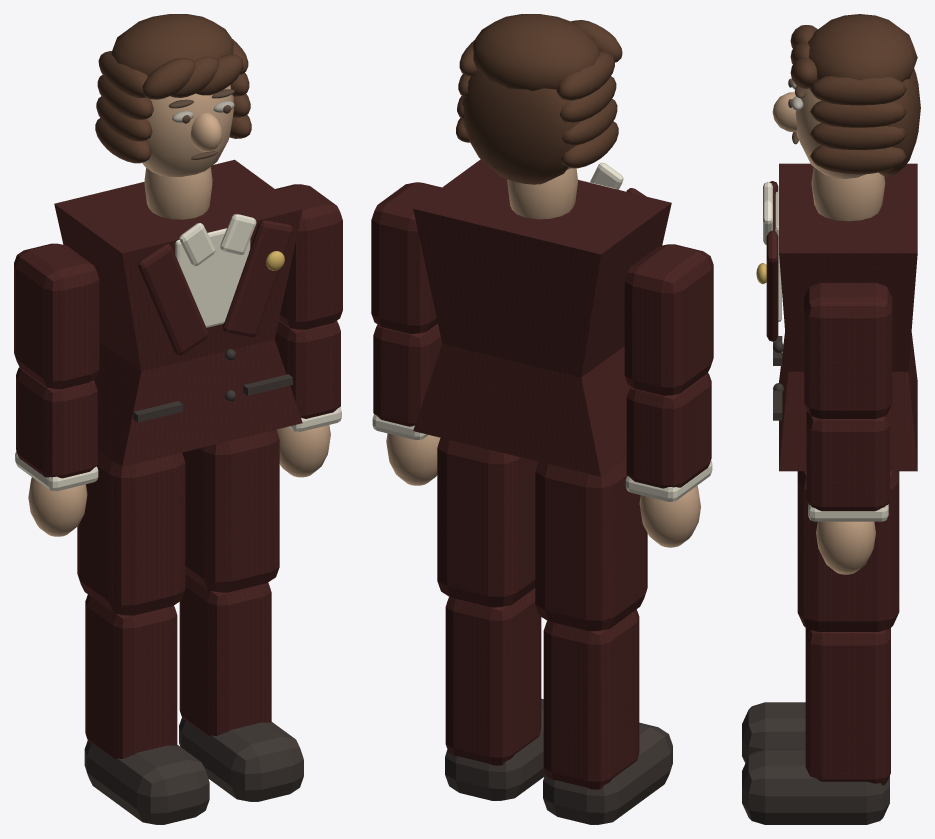
The model's file is woman.glb.
The picture shows the model from 3 angles, left to right: view 1: azimuth 30°, elevation 25°; view 2: azimuth 150°, elevation 25°; view 3: azimuth 270°, elevation 25°; orthographic projection. The views are drawn at different scales.
Parts seen in each view (by area): view 1: jacket, trouser upper, swept hair crown, trouser upper.001, trouser lower, trouser lower.001, jacket upper sleeve, neck, shoe, jacket forearm, shoe.001, jacket upper sleeve.001 (+6 smaller); view 2: jacket, swept hair crown, trouser upper, trouser upper.001, trouser lower, trouser lower.001, jacket upper sleeve, jacket forearm, jacket upper sleeve.001, shoe, jacket forearm.001, shoe.001 (+5 smaller); view 3: jacket, swept hair crown, trouser lower.001, jacket upper sleeve.001, trouser upper.001, shoe.001, jacket forearm.001, neck, shoe, hand.001, shirt cuff.001, shirt front (+1 smaller).
Part boxes in pixels (box(x1,y1,x2,y2)): jacket: box(54, 159, 302, 466); trouser upper: box(77, 449, 185, 615); swept hair crown: box(95, 14, 251, 163); trouser upper.001: box(182, 429, 279, 592); trouser lower: box(85, 594, 177, 758); trouser lower.001: box(179, 574, 271, 735); jacket upper sleeve: box(14, 243, 99, 389); neck: box(142, 85, 233, 219); shoe: box(84, 741, 209, 824); jacket forearm: box(16, 367, 97, 478); shoe.001: box(179, 718, 303, 801); jacket upper sleeve.001: box(275, 184, 342, 329); jacket: box(413, 159, 671, 476); swept hair crown: box(456, 14, 622, 184); trouser upper: box(535, 458, 647, 631); trouser upper.001: box(437, 438, 538, 607); trouser lower: box(543, 609, 639, 789); trouser lower.001: box(445, 588, 541, 765); jacket upper sleeve: box(624, 244, 713, 395); jacket forearm: box(626, 373, 711, 488); jacket upper sleeve.001: box(371, 182, 441, 333); shoe: box(543, 722, 672, 824); jacket forearm.001: box(373, 324, 442, 426); shoe.001: box(445, 698, 545, 800); jacket: box(766, 163, 917, 471); swept hair crown: box(790, 14, 920, 176); trouser lower.001: box(805, 628, 890, 785); jacket upper sleeve.001: box(804, 282, 892, 418); trouser upper.001: box(797, 471, 899, 631); shoe.001: box(742, 749, 889, 824); jacket forearm.001: box(806, 411, 889, 511); neck: box(772, 85, 885, 221); shoe: box(742, 702, 805, 763); hand.001: box(816, 521, 875, 574); shirt cuff.001: box(808, 504, 888, 521); shirt front: box(763, 182, 781, 321).
Size of the model in its own units: 0.76 by 1.83 by 0.387.
8 materials, 1 textured.
